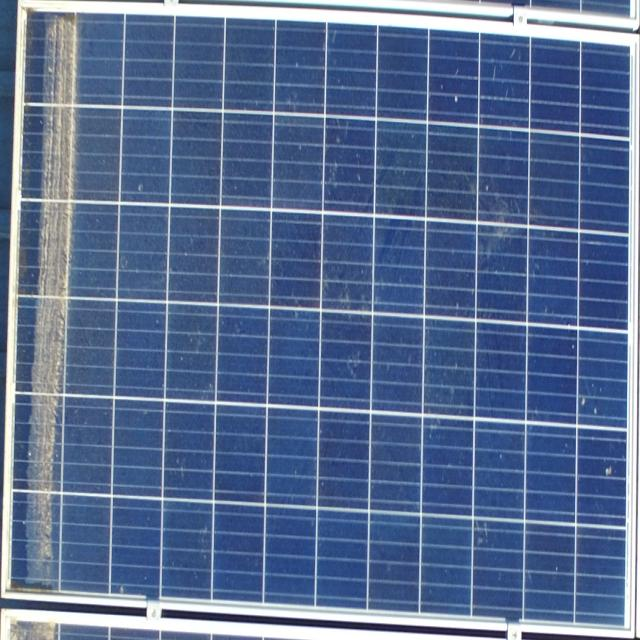Dust: (11, 7, 96, 605), (444, 164, 523, 256)
bird-droppings: (600, 462, 616, 483), (451, 93, 460, 109)
